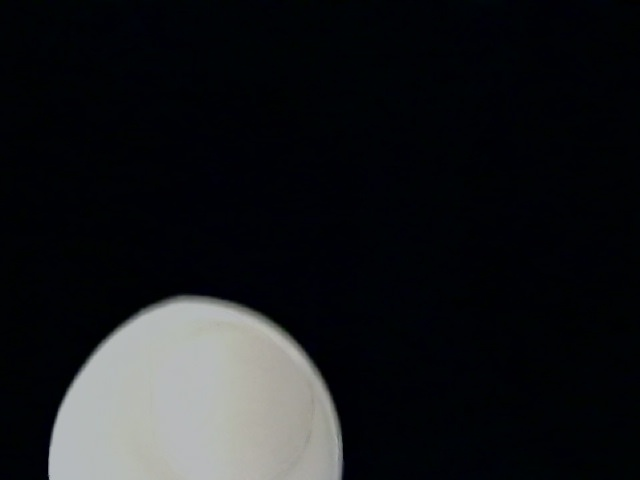KHSLJ: (1, 3, 427, 285)
